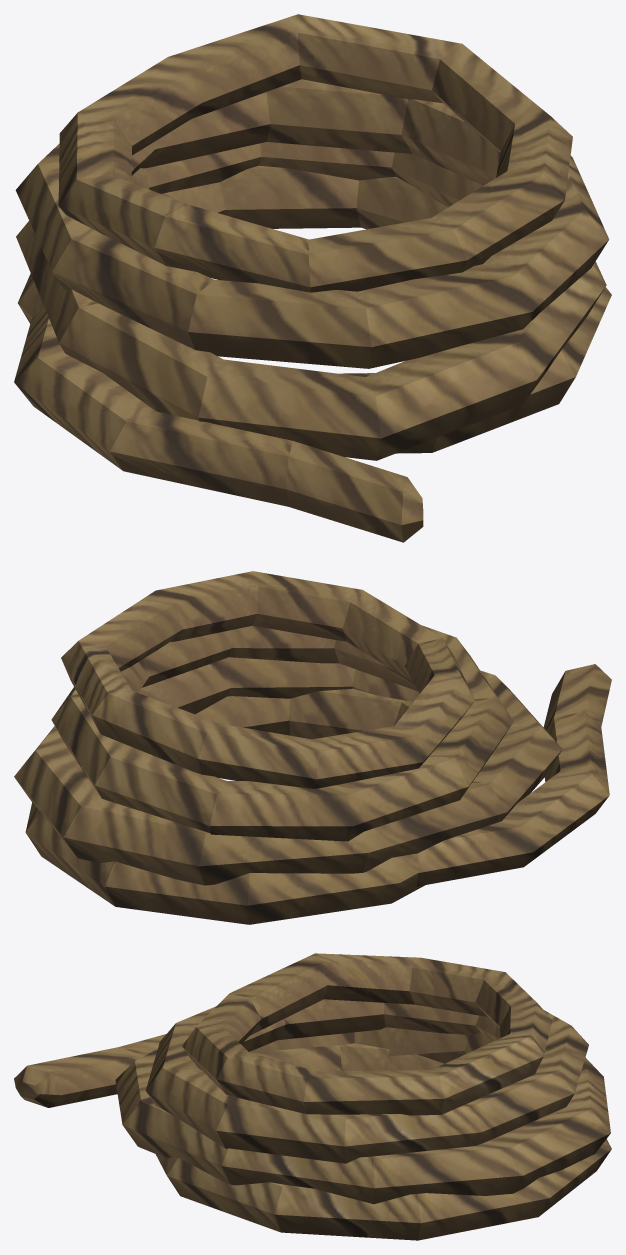
File: Rope.obj
The picture shows the model from 3 angles, top to bottom: view 1: azimuth 30°, elevation 25°; view 2: azimuth 150°, elevation 25°; view 3: azimuth 270°, elevation 25°; orthographic projection. The views are drawn at different scales.
Visible parts, largest first — view 1: pTorus5; view 2: pTorus5; view 3: pTorus5.
Part boxes in pixels (x1=…): pTorus5: x1=14, y1=14, x2=611, y2=542; pTorus5: x1=14, y1=571, x2=611, y2=924; pTorus5: x1=14, y1=953, x2=611, y2=1240.
Size of the model in its own units: 54.26 by 20 by 69.65.
